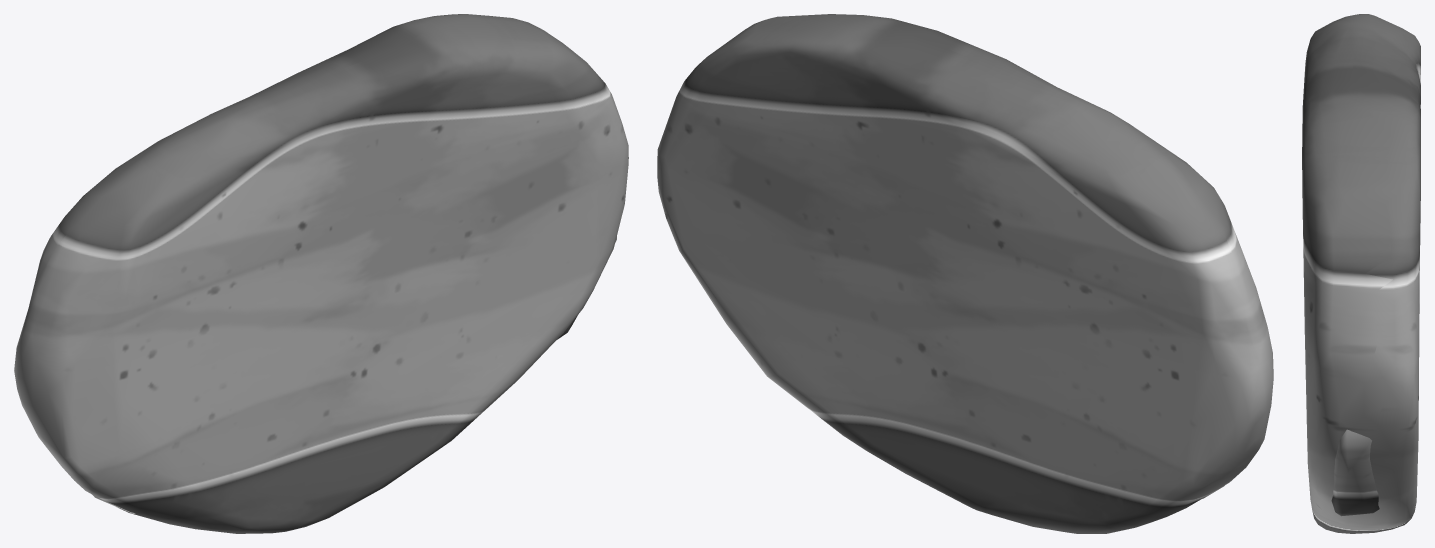
Rendered from SM_UI_BGHand.fbx.
3 views of the same model, side by side, from view 1: azimuth 30°, elevation 25°; view 2: azimuth 150°, elevation 25°; view 3: azimuth 270°, elevation 25° (orthographic). The views are drawn at different scales.
Parts seen in each view (by area): view 1: SM_UI_BGHand_TextHand; view 2: SM_UI_BGHand_TextHand; view 3: SM_UI_BGHand_TextHand, SM_UI_BGHand_TextWifi.
Part boxes in pixels (bbox=[...]): SM_UI_BGHand_TextHand: bbox=[14, 14, 628, 533]; SM_UI_BGHand_TextHand: bbox=[657, 14, 1273, 533]; SM_UI_BGHand_TextHand: bbox=[1302, 14, 1420, 533]; SM_UI_BGHand_TextWifi: bbox=[1331, 429, 1379, 516].
Bounding box in the file's own units: 0.2945 × 0.2128 × 0.0473.
Materials: 1 (1 with a texture image).
